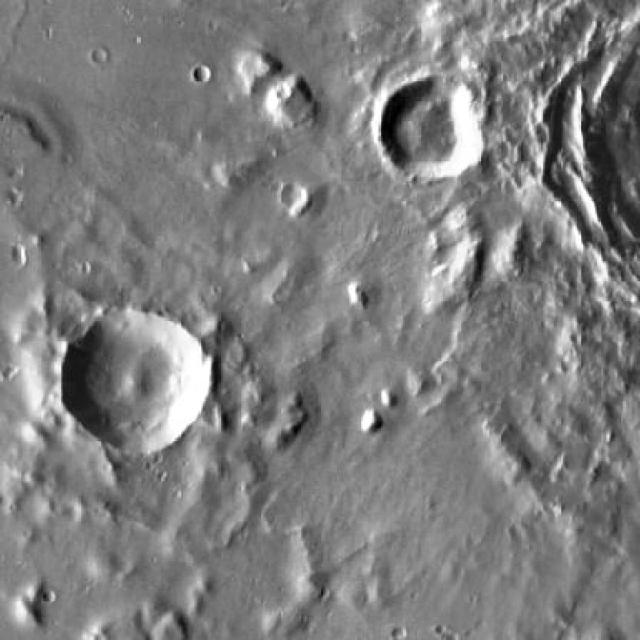crater: (61, 306, 208, 451), (375, 78, 480, 182), (278, 182, 304, 208), (194, 64, 211, 82), (92, 46, 108, 63)
